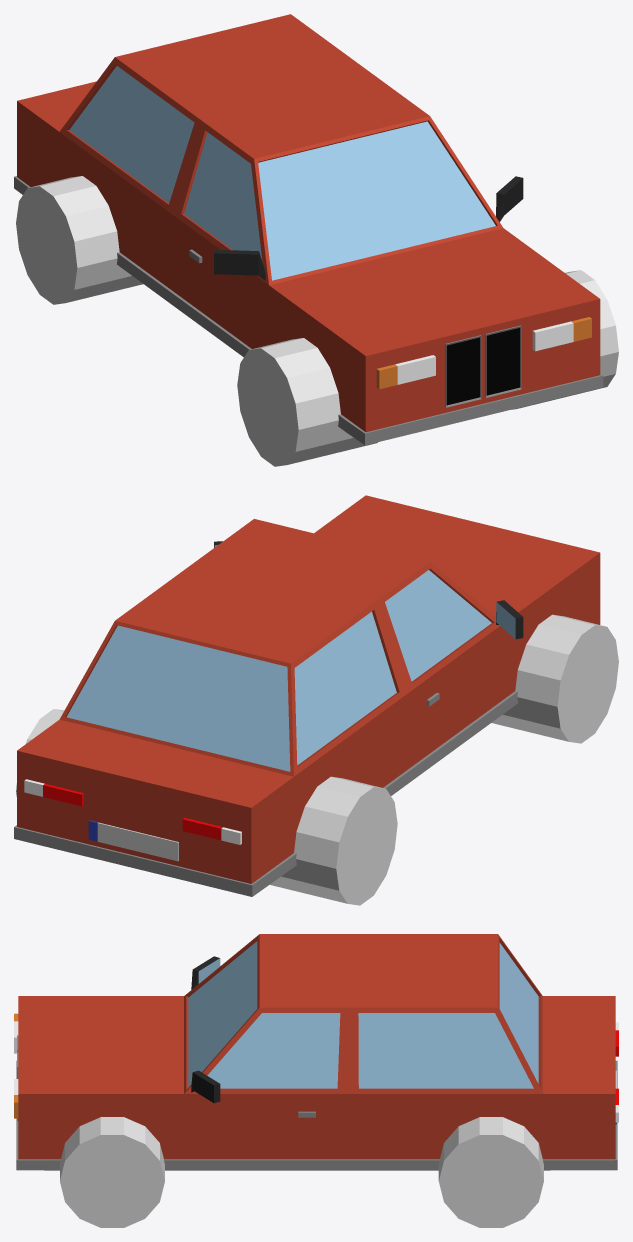
File: LowPolyCar.fbx
3 renders of one model, top to bottom at view 1: azimuth 30°, elevation 25°; view 2: azimuth 150°, elevation 25°; view 3: azimuth 270°, elevation 25°, orthographic. The views are drawn at different scales.
Visible parts, largest first — view 1: Corps, Creux.Invisibles.Arrière.001, Creux.Invisibles.Avant.001, Creux.Invisibles.Avant, Creux.Invisibles.Arrière, Ventilation, Phares.Avant, Rétroviseurs; view 2: Corps, Creux.Invisibles.Avant, Creux.Invisibles.Arrière.001, Creux.Invisibles.Arrière, Plaque.Imatriculation, Phares.Arrière, Rétroviseurs, Creux.Invisibles.Avant.001; view 3: Corps, Creux.Invisibles.Arrière.001, Creux.Invisibles.Avant, Creux.Invisibles.Arrière, Rétroviseurs, Creux.Invisibles.Avant.001.
Boxes of the visible parts, x1,y1,x2,y2 form: Corps: (14, 14, 603, 445); Creux.Invisibles.Arrière.001: (16, 184, 133, 304); Creux.Invisibles.Avant.001: (261, 276, 618, 464); Creux.Invisibles.Avant: (237, 270, 594, 466); Creux.Invisibles.Arrière: (28, 176, 143, 292); Ventilation: (445, 325, 521, 407); Phares.Avant: (376, 317, 591, 389); Rétroviseurs: (214, 176, 523, 280); Corps: (14, 495, 600, 896); Creux.Invisibles.Avant: (491, 614, 618, 743); Creux.Invisibles.Arrière.001: (16, 709, 397, 905); Creux.Invisibles.Arrière: (16, 709, 372, 899); Plaque.Imatriculation: (88, 820, 178, 861); Phares.Arrière: (24, 779, 241, 844); Rétroviseurs: (214, 541, 523, 639); Creux.Invisibles.Avant.001: (539, 615, 605, 634); Corps: (16, 934, 617, 1170); Creux.Invisibles.Arrière.001: (439, 1117, 543, 1227); Creux.Invisibles.Avant: (60, 1117, 164, 1227); Creux.Invisibles.Arrière: (438, 1117, 543, 1180); Rétroviseurs: (191, 956, 220, 1103); Creux.Invisibles.Avant.001: (60, 1117, 123, 1179).
Size of the model in its own units: 362 by 240 by 692.
